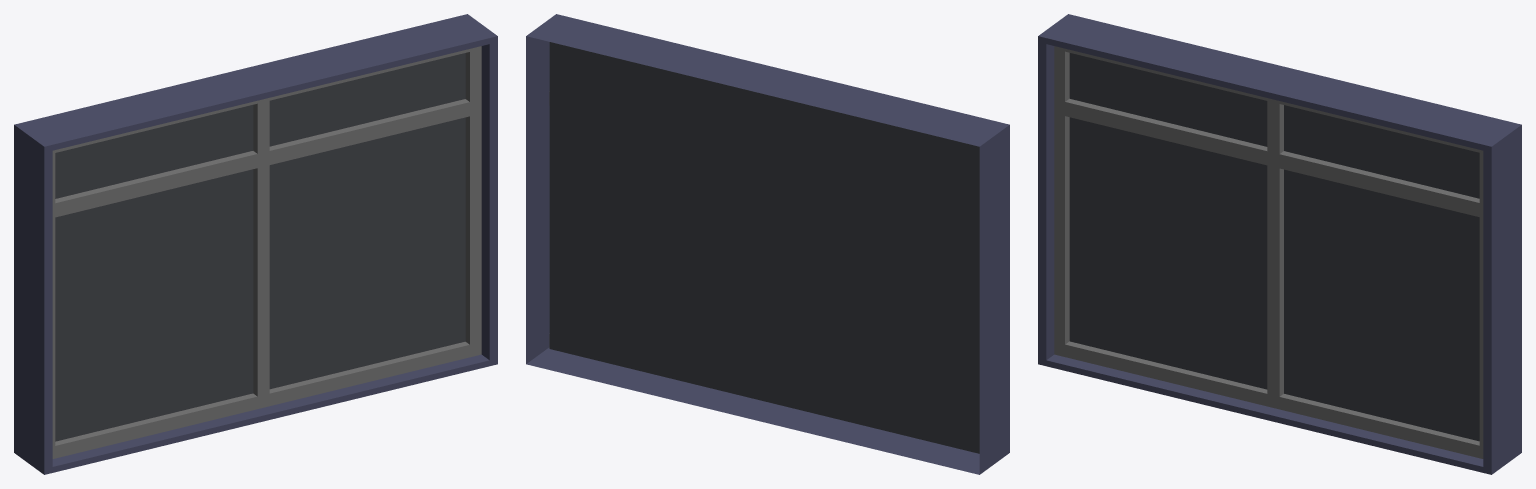
Rendered from window_dark.fbx.
3 views of the same model, side by side, from view 1: azimuth 30°, elevation 25°; view 2: azimuth 150°, elevation 25°; view 3: azimuth 330°, elevation 25° (orthographic).
Visible parts, largest first — view 1: window_dark; view 2: window_dark; view 3: window_dark.
Boxes of the visible parts, x1,y1,x2,y2 form: window_dark: (14,14,497,474); window_dark: (526,14,1009,474); window_dark: (1038,14,1521,474).
Size of the model in its own units: 2.33 by 1.61 by 0.2686.
